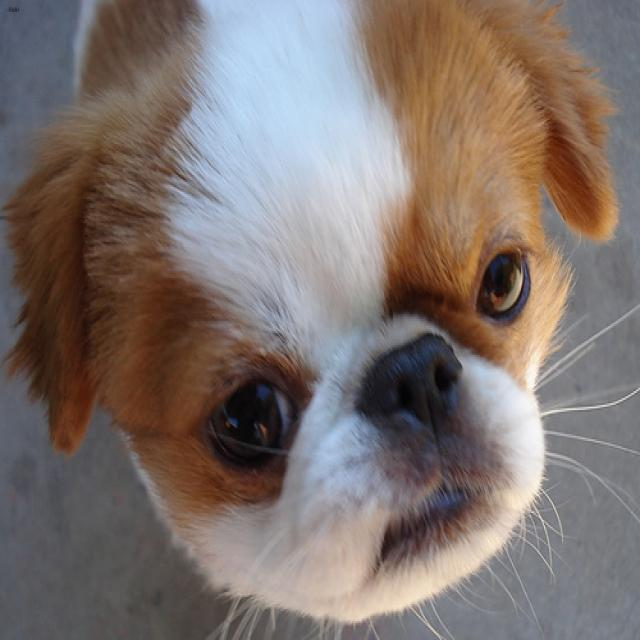dog-japanese_chin: (1, 2, 637, 637)
